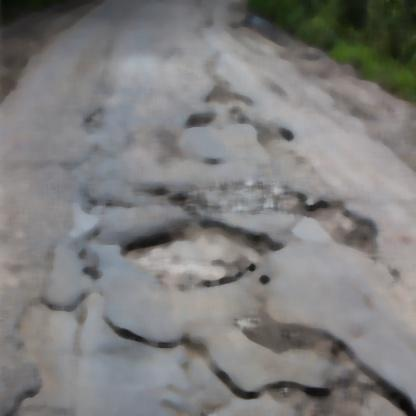Potholes: (118, 221, 263, 287), (278, 178, 378, 266), (200, 92, 251, 134)
